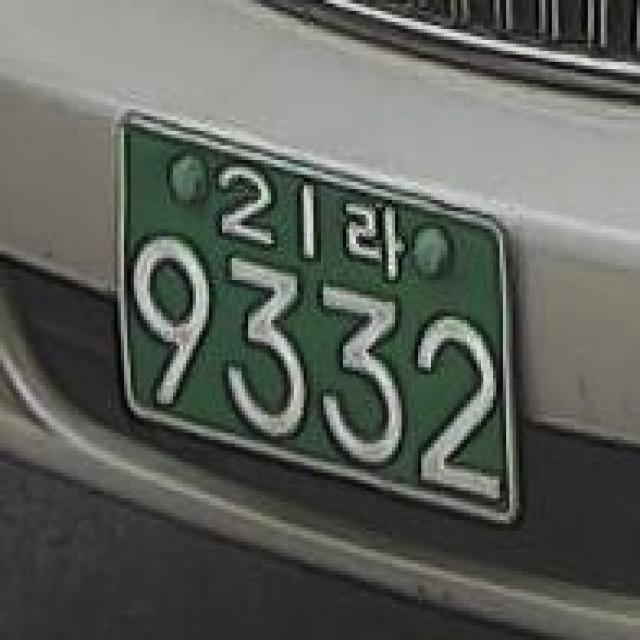illegal_plate: (93, 100, 537, 542)
